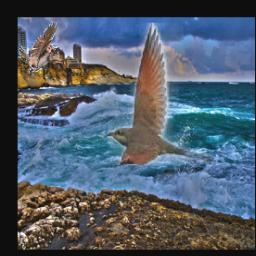Cuckoo: (107, 24, 213, 166)
Sparrow: (19, 21, 58, 77)
